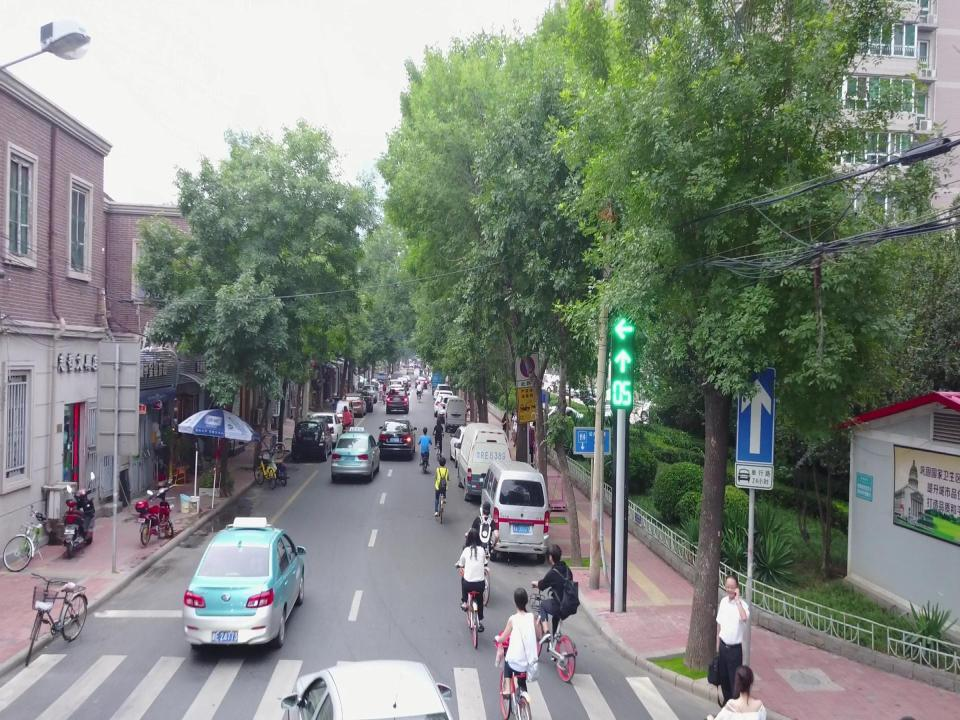car: (182, 515, 304, 656), (280, 660, 456, 720), (482, 460, 548, 563), (2, 503, 48, 573), (332, 426, 380, 480), (291, 419, 333, 461), (378, 419, 418, 461), (450, 427, 482, 469), (306, 411, 342, 442), (386, 388, 410, 413), (434, 390, 456, 417), (344, 392, 367, 417), (439, 395, 459, 422), (360, 383, 378, 406), (355, 391, 373, 412), (434, 383, 453, 402), (348, 372, 368, 388), (394, 375, 408, 392), (400, 374, 410, 388), (416, 376, 428, 387), (406, 364, 414, 374)
truck: (432, 366, 446, 395)
van: (459, 425, 513, 501), (445, 398, 467, 433), (388, 378, 406, 397), (387, 384, 405, 398)
